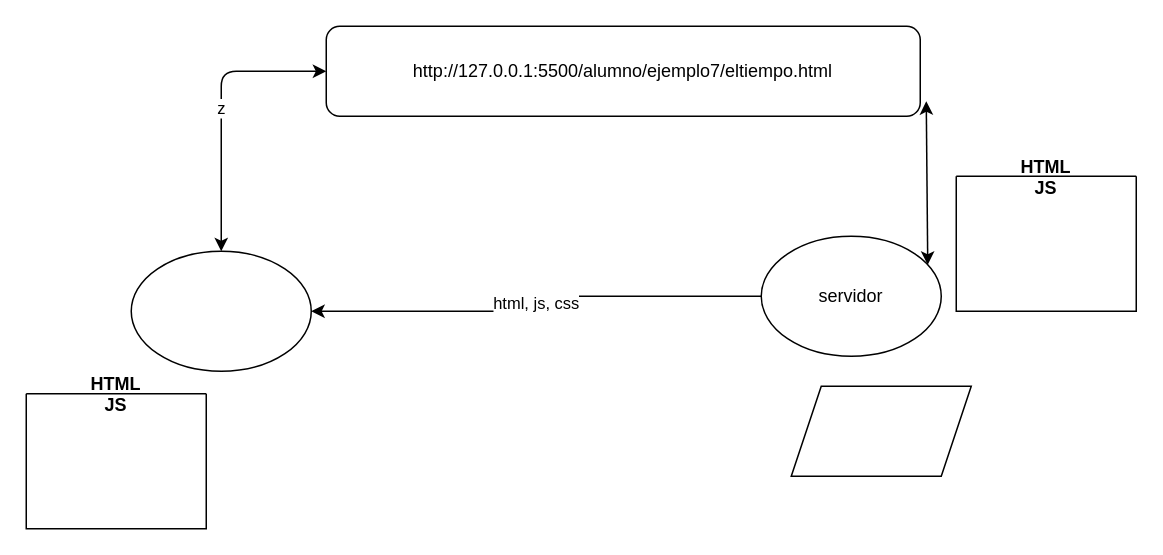
This 1163x555 diagram has some shape labels left out. The shapes that lost their labels are listed below. From the top down, each one's centre as x and y in pixels, then its label:
At (x=220, y=310): "cliente".
At (x=880, y=430): "preproceso".
